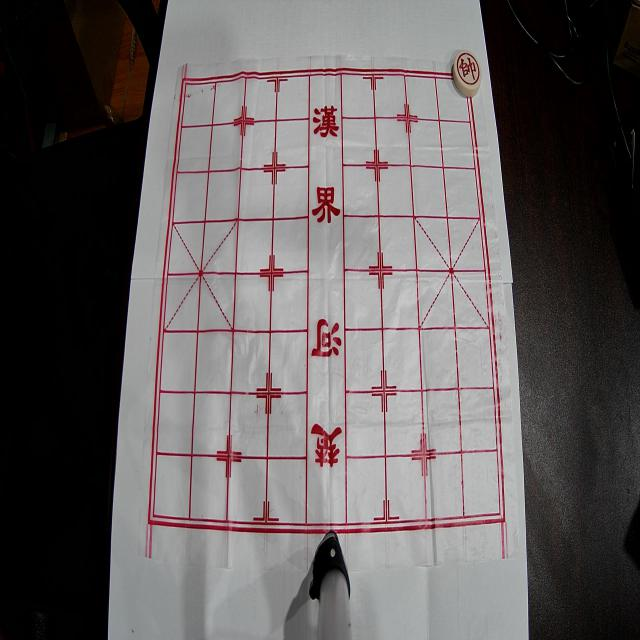red-general: (452, 50, 482, 96)
